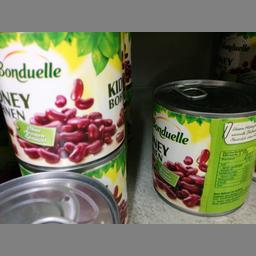beans: (0, 31, 120, 162), (150, 78, 255, 215)
